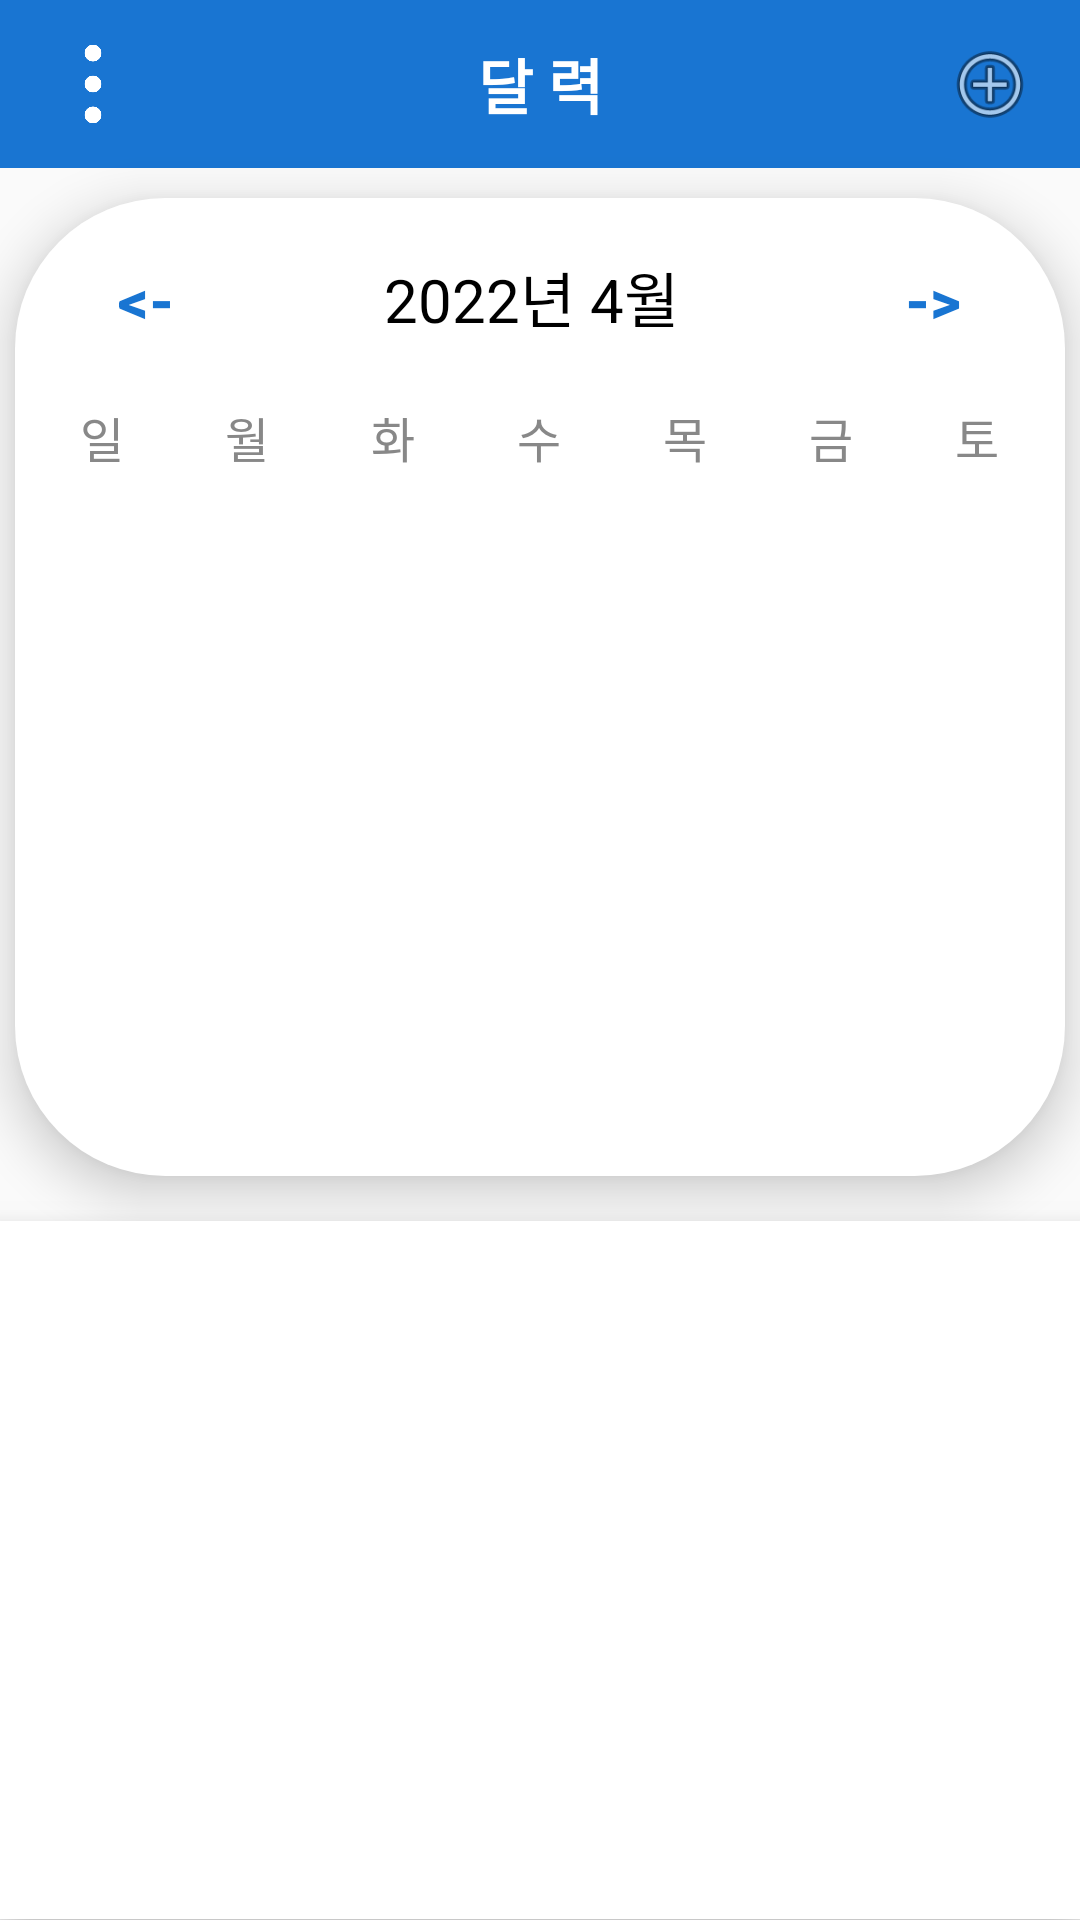

Where icons sit on this 1080 × 1920 app screen, as (x1, y1, x2, y2):
add: (957, 51, 1023, 118)
menu: (84, 45, 102, 123)
